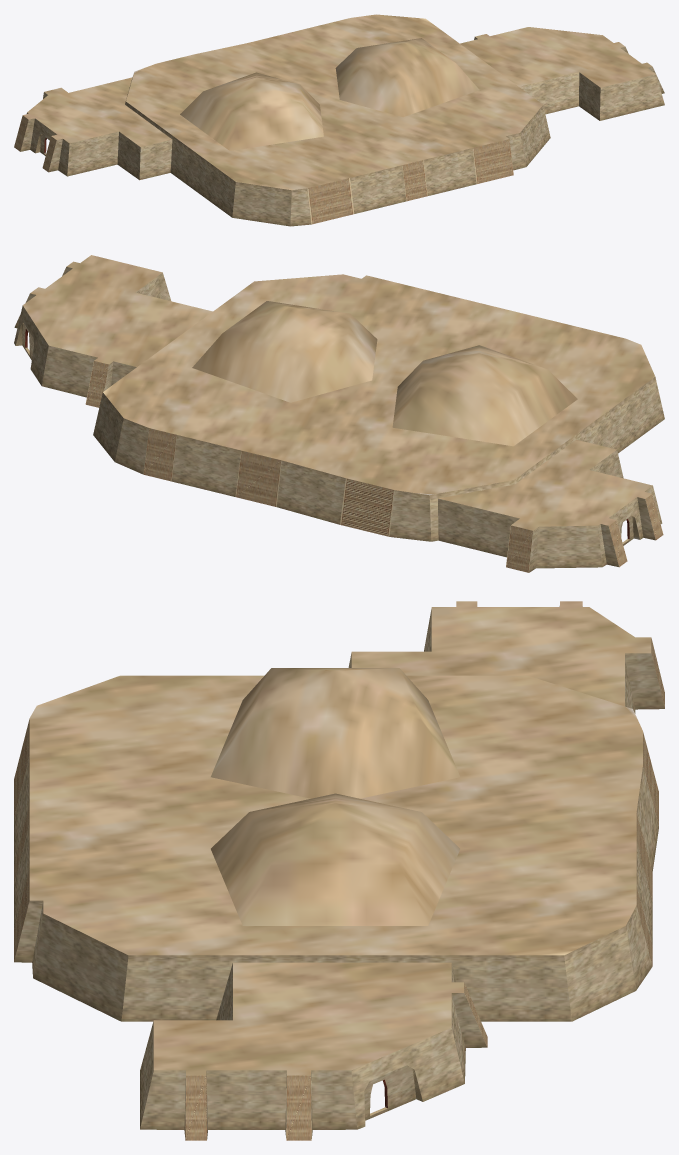
File: thm_tato_cantina_r0_mesh_r0_l5.fbx
3 renders of one model, top to bottom at view 1: azimuth 30°, elevation 25°; view 2: azimuth 150°, elevation 25°; view 3: azimuth 270°, elevation 25°, orthographic. The views are drawn at different scales.
Parts seen in each view (by area): view 1: mesh_node; view 2: mesh_node; view 3: mesh_node.
Boxes of the visible parts, x1=… form: mesh_node: x1=14, y1=14, x2=664, y2=226; mesh_node: x1=14, y1=255, x2=664, y2=572; mesh_node: x1=14, y1=601, x2=664, y2=1140.
Size of the model in its own units: 106 by 13.74 by 59.27.
Materials: 1 (1 with a texture image).
